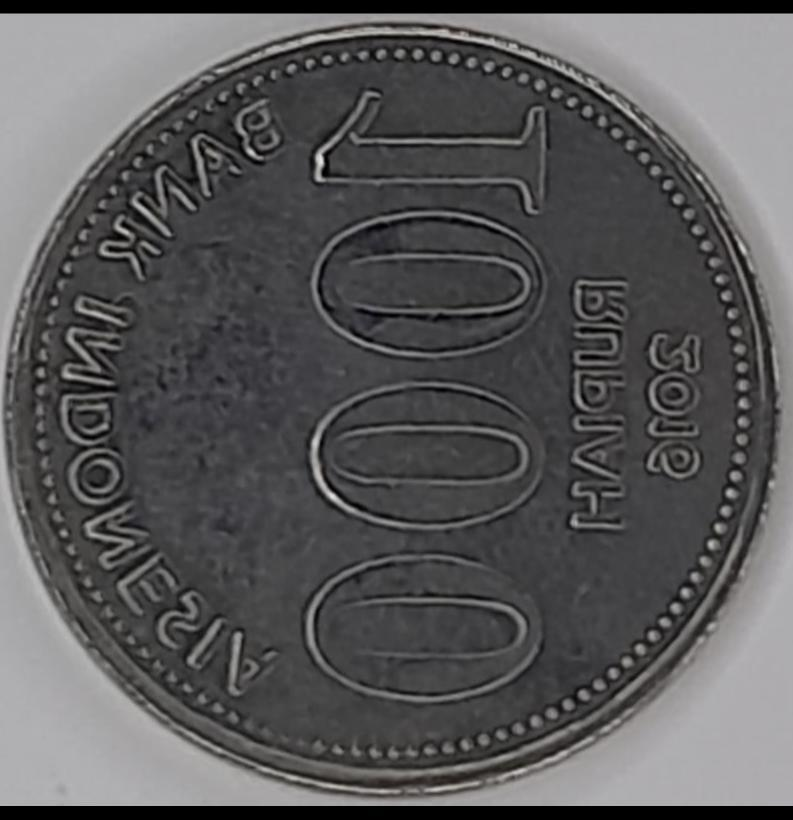coin_1000_e2016: (13, 16, 782, 820)
